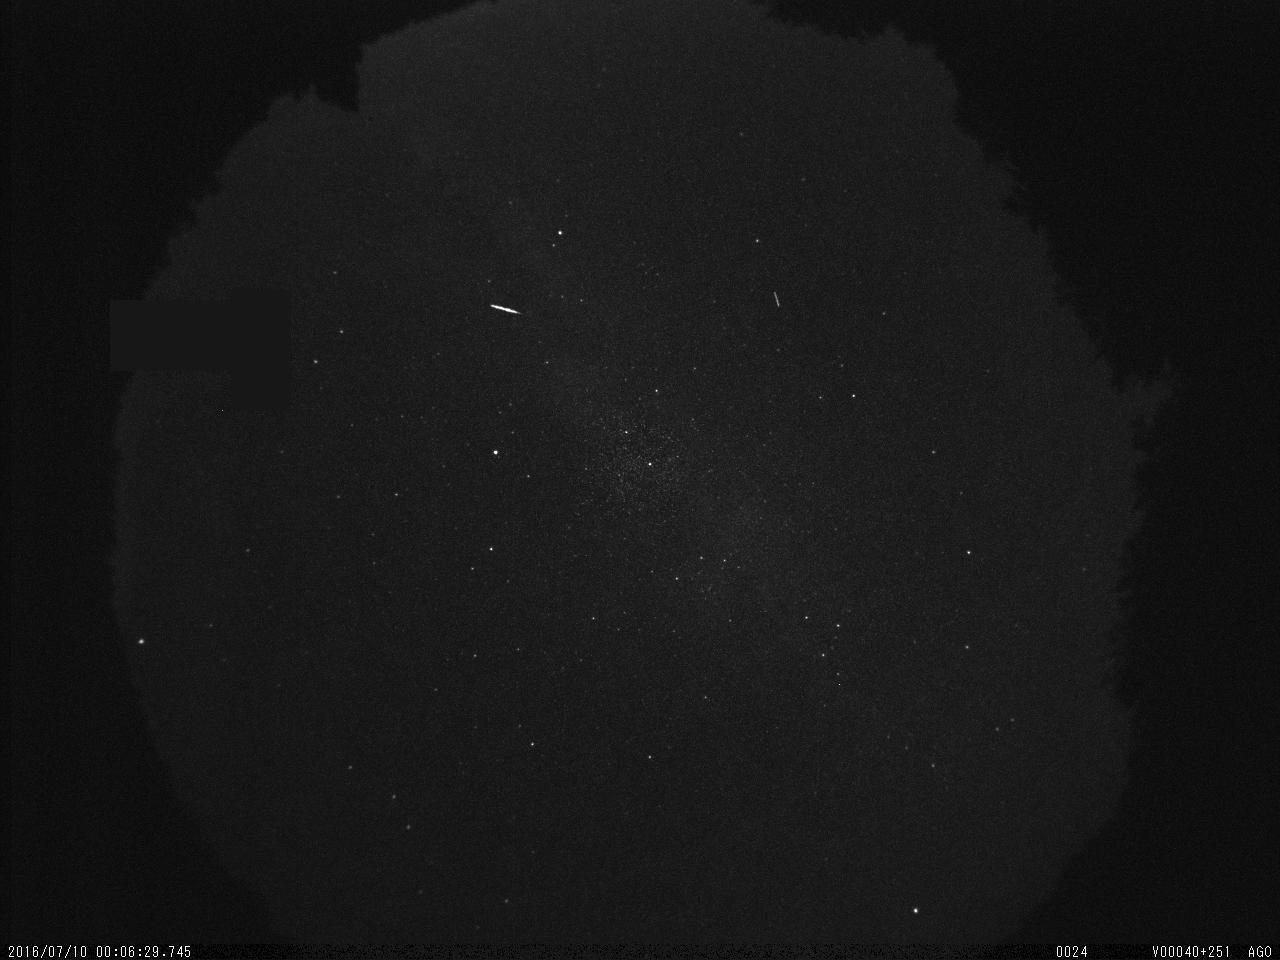Meteor: (488, 301, 522, 316)
